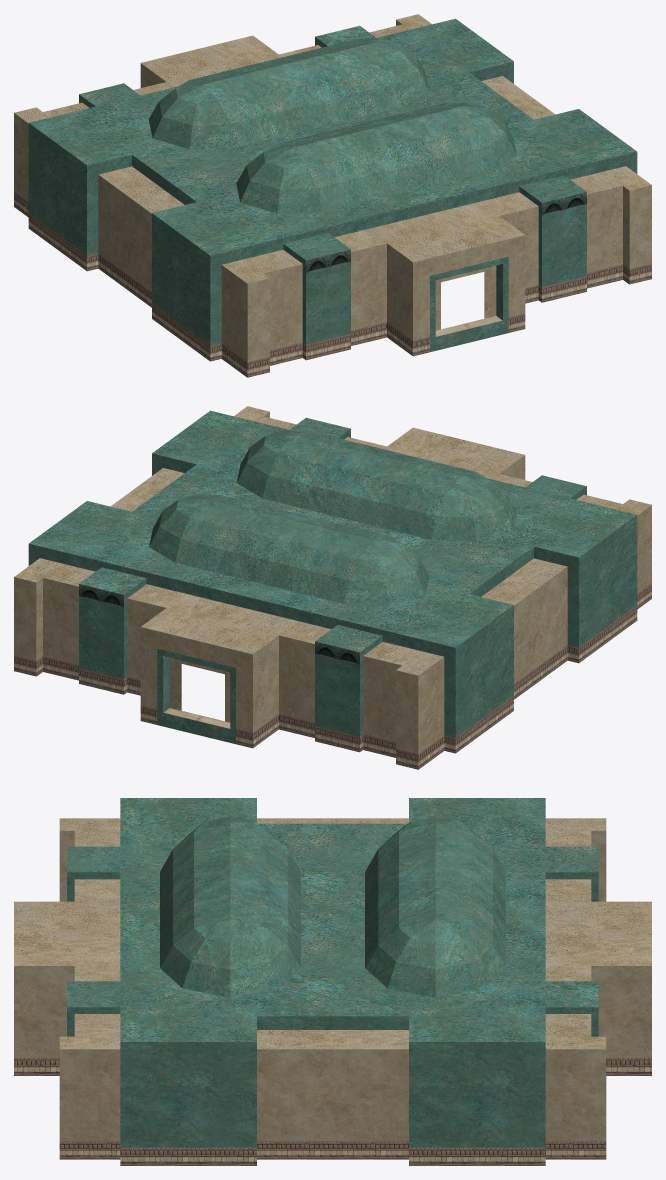
Rendered from mun_nboo_hospital_s02_r0_mesh_l1.fbx.
3 renders of one model, top to bottom at view 1: azimuth 30°, elevation 25°; view 2: azimuth 150°, elevation 25°; view 3: azimuth 270°, elevation 25°, orthographic. The views are drawn at different scales.
Parts seen in each view (by area): view 1: mesh_node; view 2: mesh_node; view 3: mesh_node.
Part boxes in pixels (<box>): mesh_node: <box>14,14,651,377</box>; mesh_node: <box>14,406,651,769</box>; mesh_node: <box>14,798,651,1165</box>.
Size of the model in its own units: 38 by 12.56 by 42.
